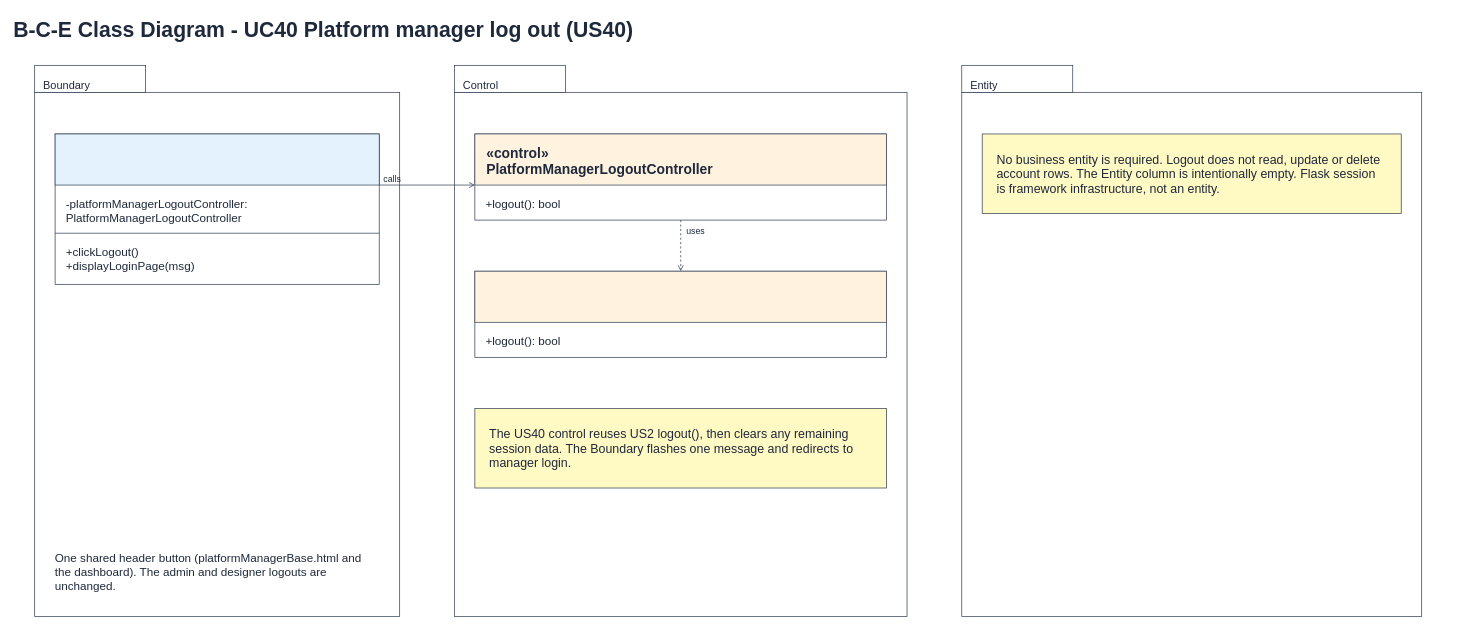
The diagram is 1484 pixels wide and 629 high, and some of its shapes have lost their labels. The shapes that lost their labels are listed below. From the top down, each one's centre as x and y in pixels, then its label:
At (x=216, y=159): "«boundary» PlatformManagerLogoutPage".
At (x=680, y=296): "«control» (reused from US2) LogoutController".
